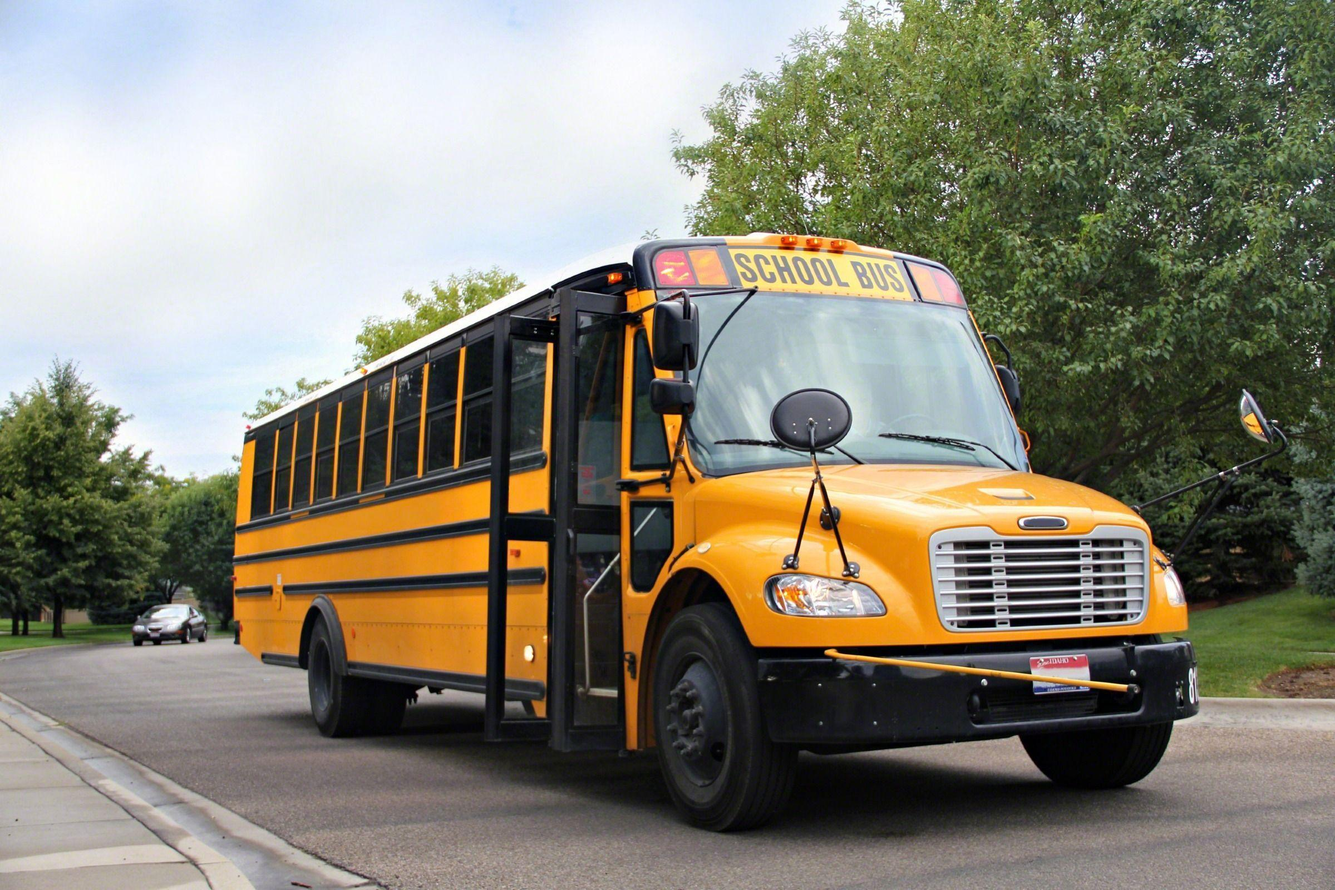Bus: (231, 234, 1204, 836)
